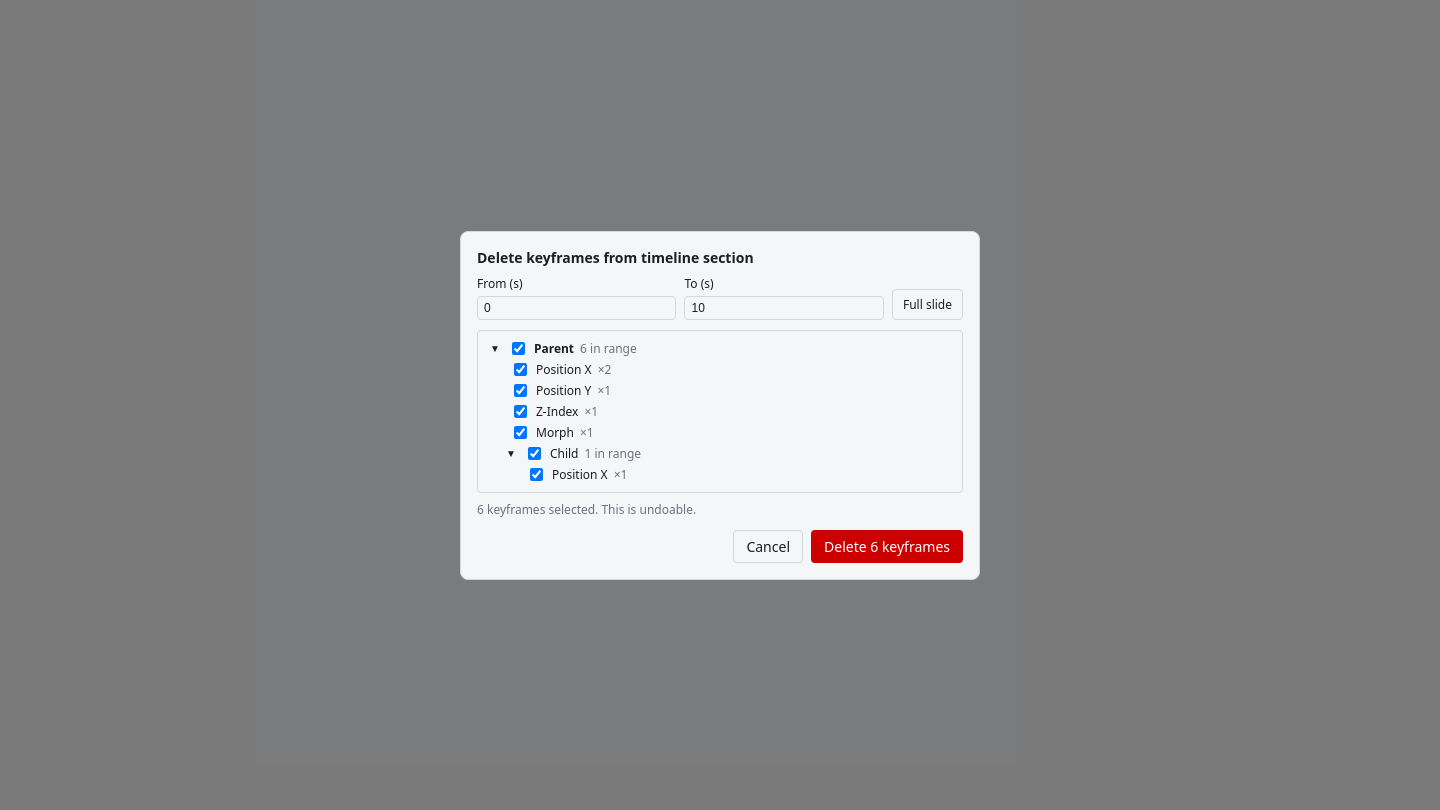
it: DeleteKeyframesInRangeModal › rejects an invalid range and disables confirm
The image size is (1440, 810).
Replace the text in the field with test id "delete-range-from-input" with "7". click: (577, 308)
box: [477, 296, 676, 320]
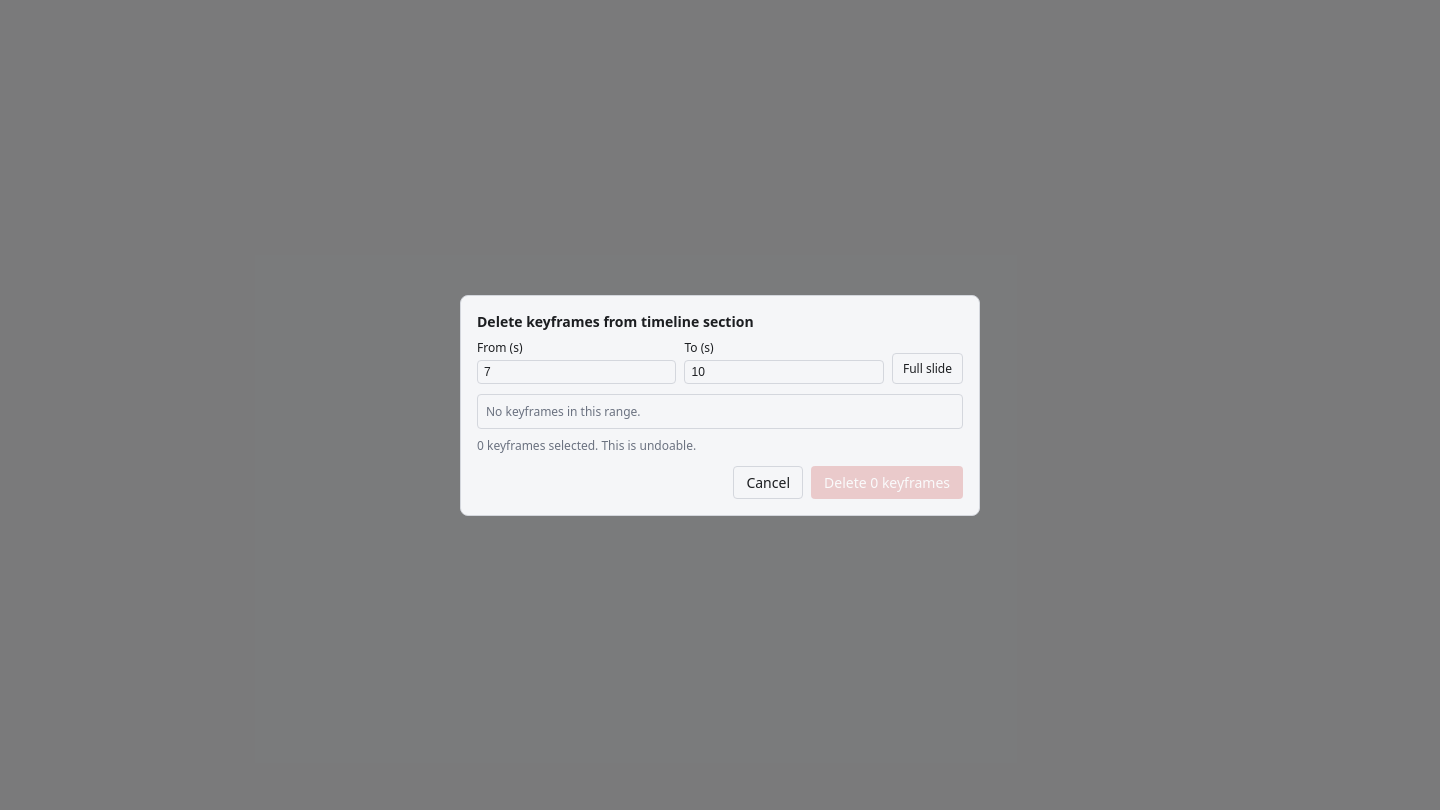
Replace the text in the field with test id "delete-range-to-input" with "2". click: (784, 372)
box: [684, 360, 884, 384]
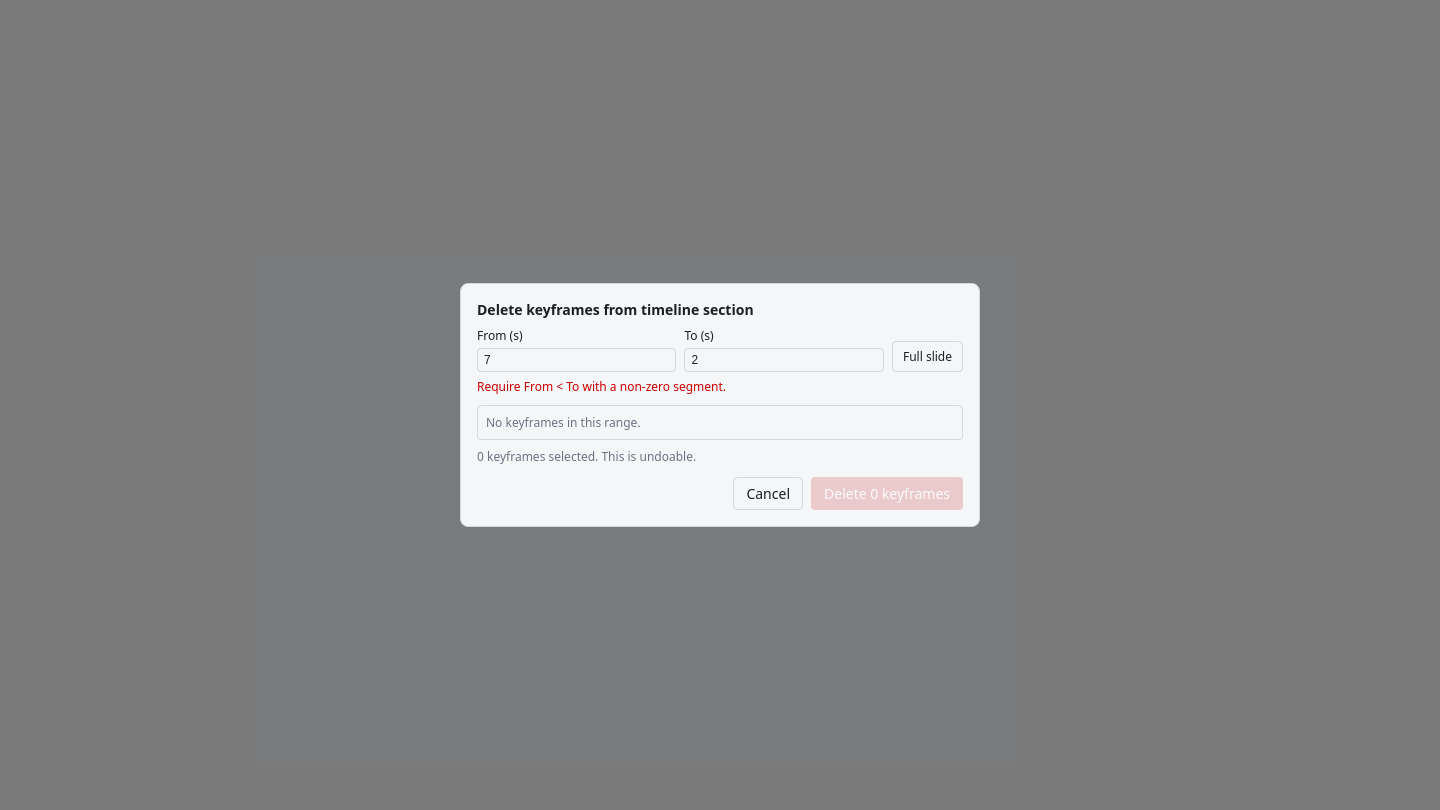
Check: the button with test id "delete-range-confirm" is disabled, box [811, 477, 963, 510]
Check: the text "Require From < To with a non-zero segment." is shown, box [477, 378, 726, 395]
